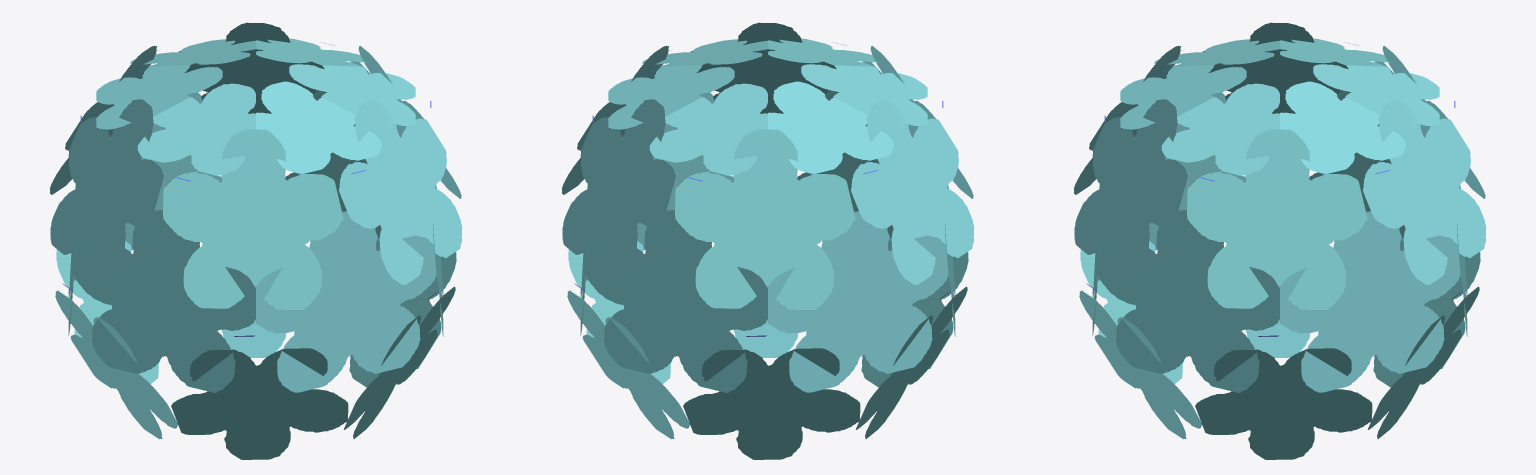
Rendered from Hydrangea_b.fbx.
3 views of the same model, side by side, from view 1: azimuth 30°, elevation 25°; view 2: azimuth 150°, elevation 25°; view 3: azimuth 270°, elevation 25° (orthographic).
Visible parts, largest first — view 1: pSphere10; view 2: pSphere10; view 3: pSphere10.
Boxes of the visible parts, x1,y1,x2,y2 form: pSphere10: (49,22,462,459); pSphere10: (561,22,974,459); pSphere10: (1073,22,1486,459).
Size of the model in its own units: 0.3926 by 0.345 by 0.4367.
